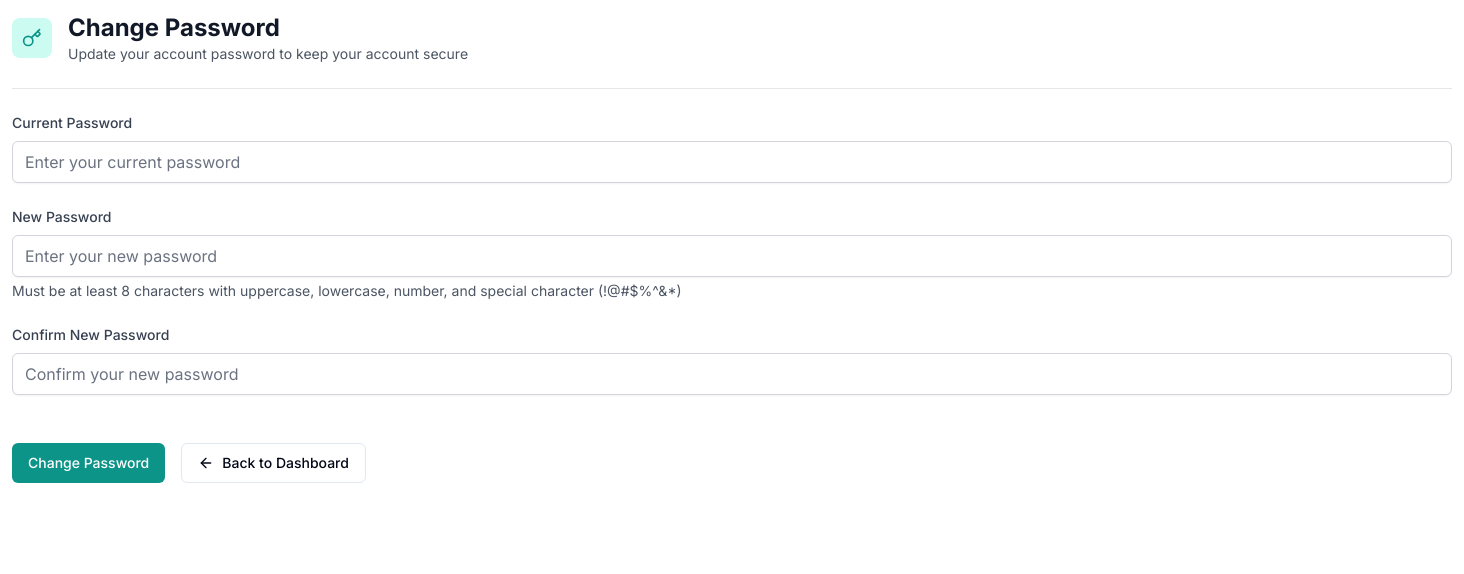
ChangePasswordForm › Form Validation › should validate password strength
This screenshot has width=1464, height=574.
Step 1. Type "OldPassword123!" into the password field labelled "Current Password" → (732, 162), box [12, 141, 1452, 183]
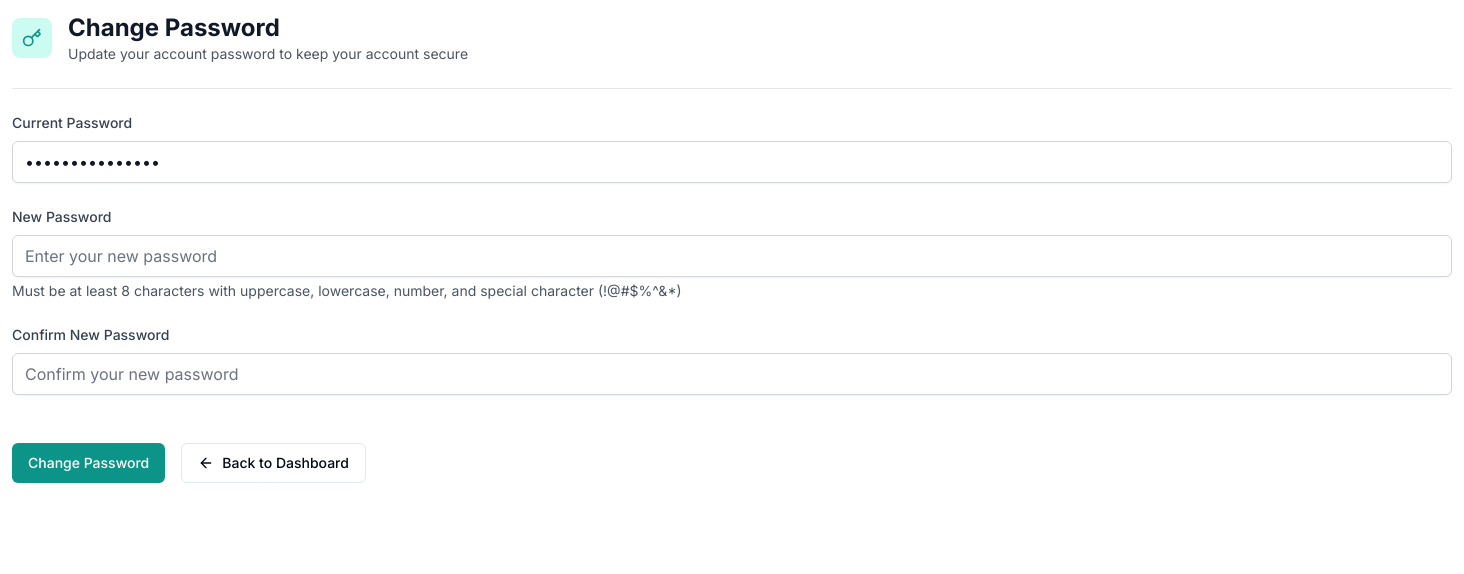
Step 2. Type "weak" into the password field labelled "New Password" → (732, 256), box [12, 235, 1452, 277]
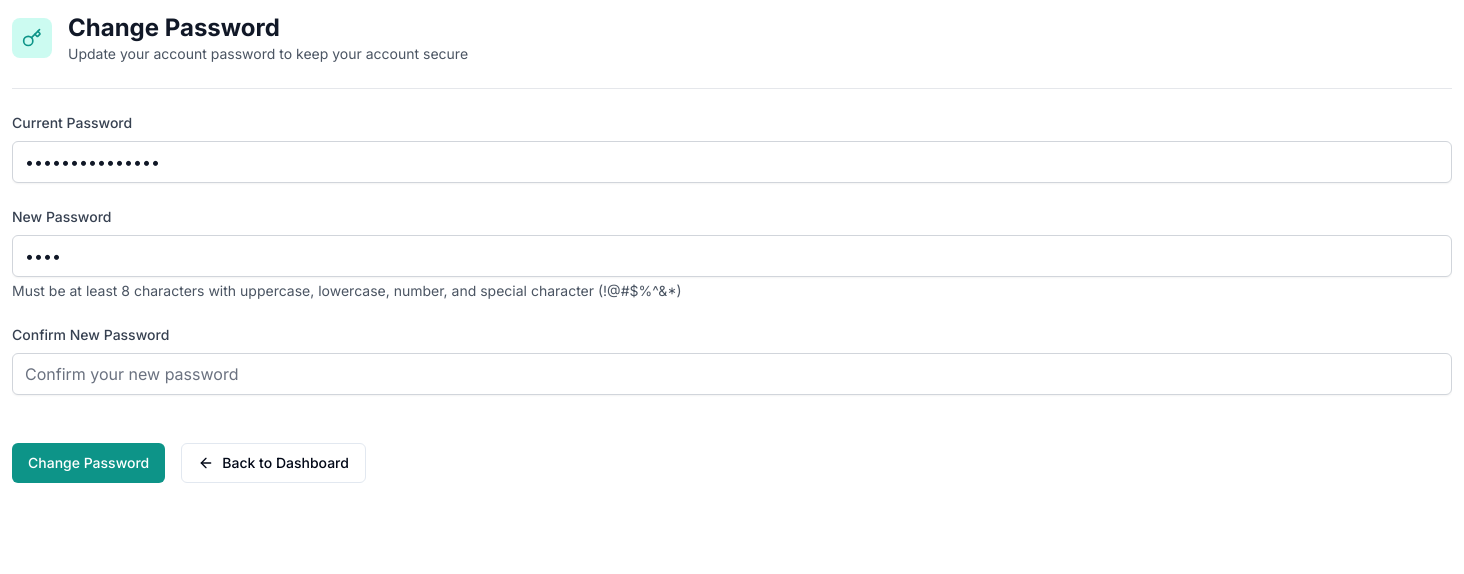
Step 3. Type "weak" into the password field labelled "Confirm New Password" → (732, 374), box [12, 353, 1452, 395]
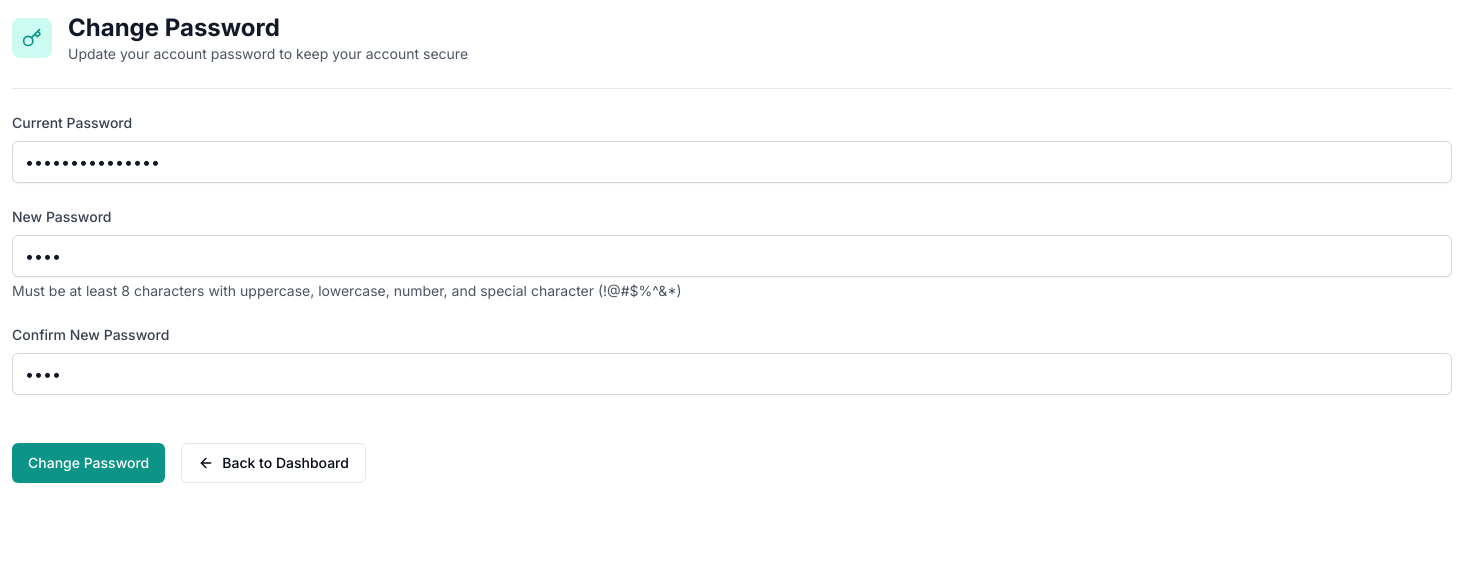
Step 4. Click the button "Change Password" → (89, 463), box [12, 443, 165, 483]
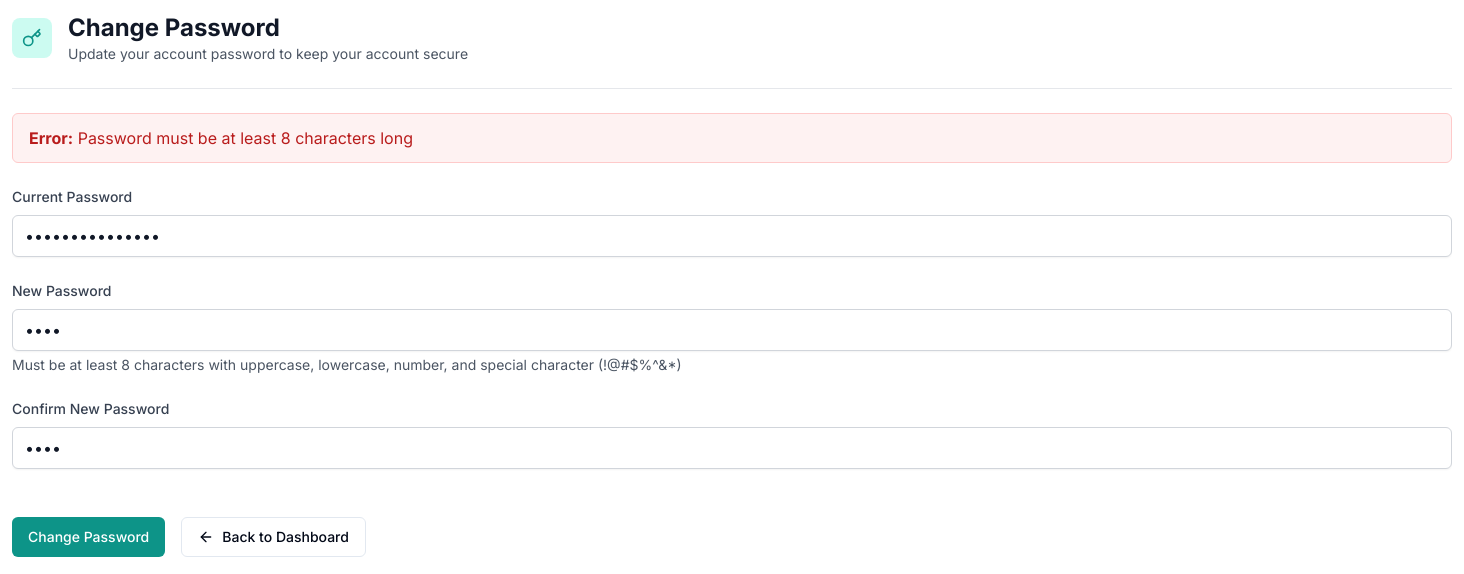
Expected: the text "Password must be at least 8 characters long" is shown, [78, 128, 413, 148]
